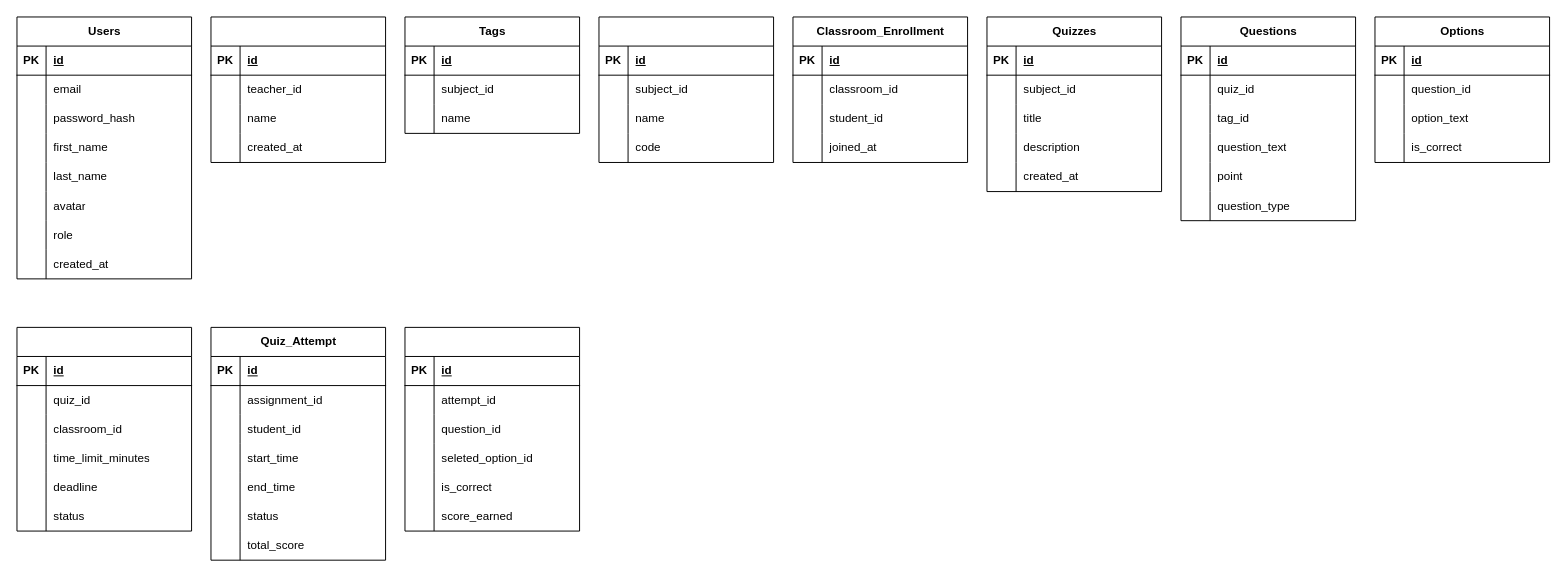
The diagram is 1567 pixels wide and 577 high, and some of its shapes have lost their labels. Here are the shapes that lost their labels. From the top down, the box of each, then its label:
(210, 16, 386, 162): Subjects
(598, 16, 774, 162): Classroom
(16, 326, 192, 531): Quiz_Assignment
(404, 326, 580, 531): Responses
